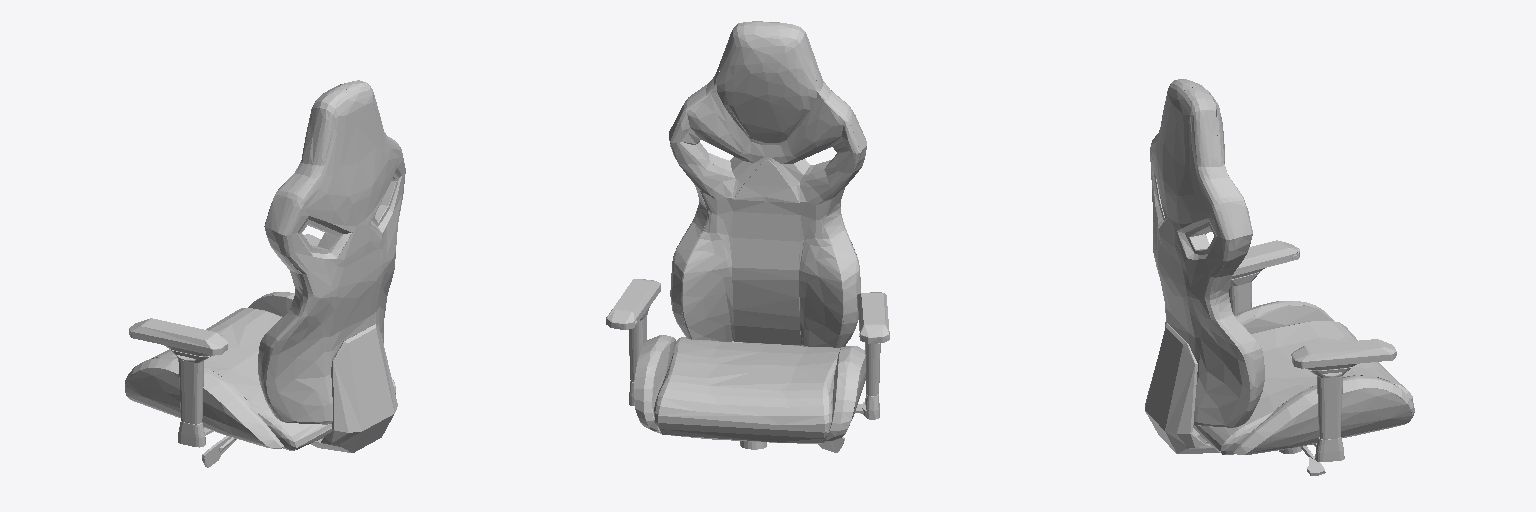
The model's file is Top.obj.
The picture shows the model from 3 angles: view 1: azimuth 30°, elevation 25°; view 2: azimuth 150°, elevation 25°; view 3: azimuth 270°, elevation 25°; orthographic projection.
Parts seen in each view (by area): view 1: wheel2_aiStandardSurface1_0; view 2: wheel2_aiStandardSurface1_0; view 3: wheel2_aiStandardSurface1_0.
Part boxes in pixels (x1,y1,x2,y2): wheel2_aiStandardSurface1_0: (125,80,405,467); wheel2_aiStandardSurface1_0: (606,21,889,452); wheel2_aiStandardSurface1_0: (1145,79,1414,475).
Size of the model in its own units: 37.39 by 54.94 by 35.49.